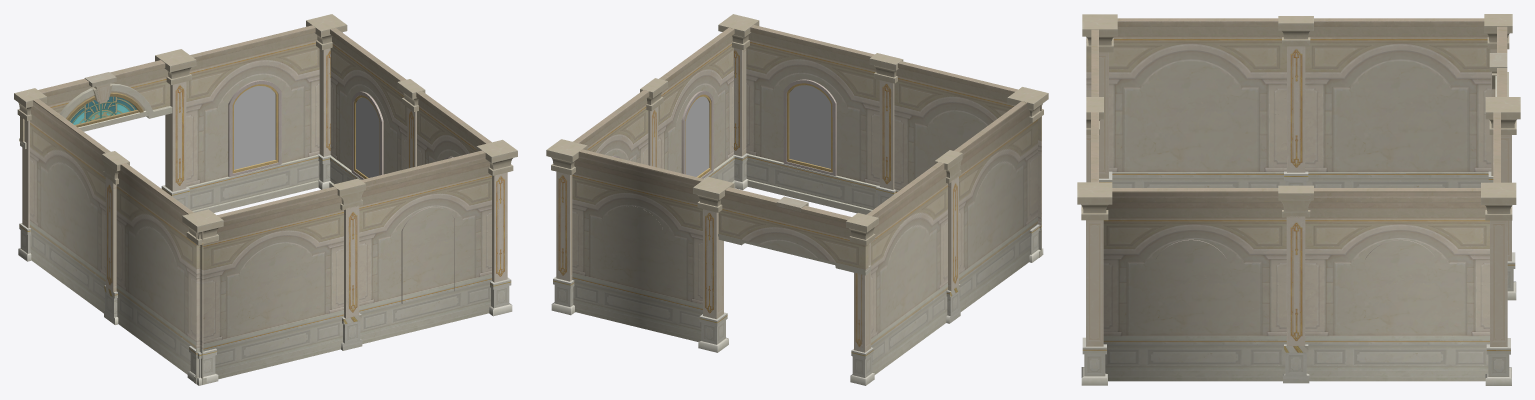
The model's file is Homeworld_Interior_Fd_Room_L_Wall_01_Vo.fbx.
3 renders of one model, left to right at view 1: azimuth 30°, elevation 25°; view 2: azimuth 150°, elevation 25°; view 3: azimuth 270°, elevation 25°, orthographic. The views are drawn at different scales.
Parts seen in each view (by area): view 1: Homeworld_Interior_Fd_Room_L_Filling_01_Vo, Homeworld_Interior_Fd_Room_Wall_02_Vo (×4), Homeworld_Interior_Fd_Room_Pillar_01_Vo (×5), Homeworld_Interior_Fd_Room_Pillar_02_Vo (×3), Homeworld_Interior_Fd_Room_Door_02_Vo, Homeworld_Interior_Fd_Room_Wall_01_Vo (×3); view 2: Homeworld_Interior_Fd_Room_L_Filling_01_Vo, Homeworld_Interior_Fd_Room_Wall_02_Vo (×4), Homeworld_Interior_Fd_Room_Pillar_01_Vo (×5), Homeworld_Interior_Fd_Room_Wall_01_Vo (×3), Homeworld_Interior_Fd_Room_Door_02_Vo, Homeworld_Interior_Fd_Room_Pillar_02_Vo (×3); view 3: Homeworld_Interior_Fd_Room_L_Filling_01_Vo, Homeworld_Interior_Fd_Room_Wall_01_Vo (×3), Homeworld_Interior_Fd_Room_Pillar_01_Vo (×5), Homeworld_Interior_Fd_Room_Pillar_02_Vo (×3), Homeworld_Interior_Fd_Room_Wall_02_Vo (×4), Homeworld_Interior_Fd_Room_Door_02_Vo.
Part boxes in pixels (bbox=[...]): Homeworld_Interior_Fd_Room_L_Filling_01_Vo: bbox=[30, 101, 491, 379]; Homeworld_Interior_Fd_Room_Wall_02_Vo (×4): bbox=[186, 25, 491, 303]; Homeworld_Interior_Fd_Room_Pillar_01_Vo (×5): bbox=[14, 14, 517, 385]; Homeworld_Interior_Fd_Room_Pillar_02_Vo (×3): bbox=[102, 79, 425, 350]; Homeworld_Interior_Fd_Room_Door_02_Vo: bbox=[19, 60, 172, 148]; Homeworld_Interior_Fd_Room_Wall_01_Vo (×3): bbox=[33, 99, 337, 384]; Homeworld_Interior_Fd_Room_L_Filling_01_Vo: bbox=[572, 103, 1037, 374]; Homeworld_Interior_Fd_Room_Wall_02_Vo (×4): bbox=[573, 25, 879, 214]; Homeworld_Interior_Fd_Room_Pillar_01_Vo (×5): bbox=[546, 14, 1048, 385]; Homeworld_Interior_Fd_Room_Wall_01_Vo (×3): bbox=[861, 61, 1041, 351]; Homeworld_Interior_Fd_Room_Door_02_Vo: bbox=[718, 187, 870, 275]; Homeworld_Interior_Fd_Room_Pillar_02_Vo (×3): bbox=[640, 53, 962, 323]; Homeworld_Interior_Fd_Room_L_Filling_01_Vo: bbox=[1103, 192, 1489, 381]; Homeworld_Interior_Fd_Room_Wall_01_Vo (×3): bbox=[1086, 18, 1491, 187]; Homeworld_Interior_Fd_Room_Pillar_01_Vo (×5): bbox=[1077, 14, 1520, 385]; Homeworld_Interior_Fd_Room_Pillar_02_Vo (×3): bbox=[1086, 16, 1313, 383]; Homeworld_Interior_Fd_Room_Wall_02_Vo (×4): bbox=[1091, 112, 1500, 258]; Homeworld_Interior_Fd_Room_Door_02_Vo: bbox=[1489, 26, 1508, 96].
Size of what is drawn, in the model's own units: 10.37 by 5.02 by 10.58.
